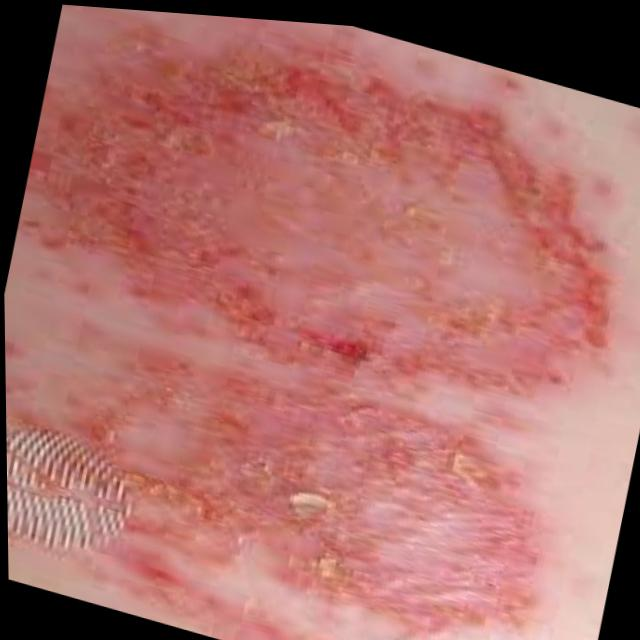Eczema: (0, 0, 588, 637)
